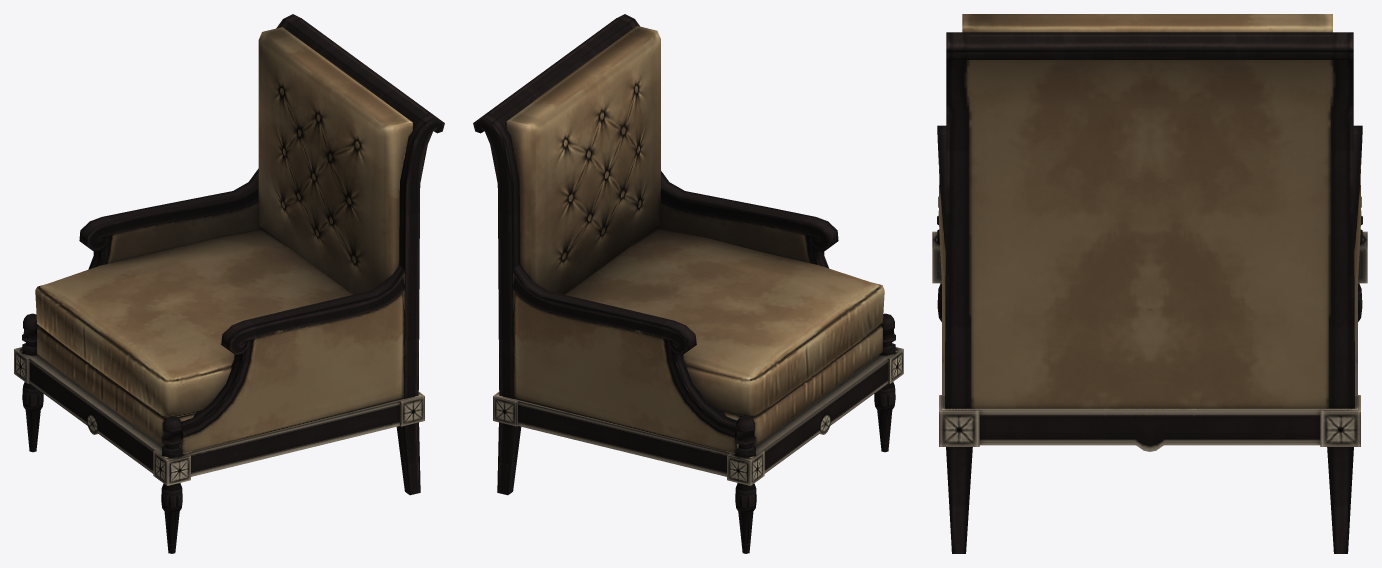
The model's file is Sofa03.FBX.
3 renders of one model, left to right at view 1: azimuth 30°, elevation 25°; view 2: azimuth 150°, elevation 25°; view 3: azimuth 270°, elevation 25°, orthographic. The views are drawn at different scales.
Visible parts, largest first — view 1: Sofa03; view 2: Sofa03; view 3: Sofa03.
Part boxes in pixels (<box>): Sofa03: <box>14,14,444,553</box>; Sofa03: <box>473,14,903,553</box>; Sofa03: <box>932,14,1367,553</box>.
Size of the model in its own units: 114 by 143 by 107.
